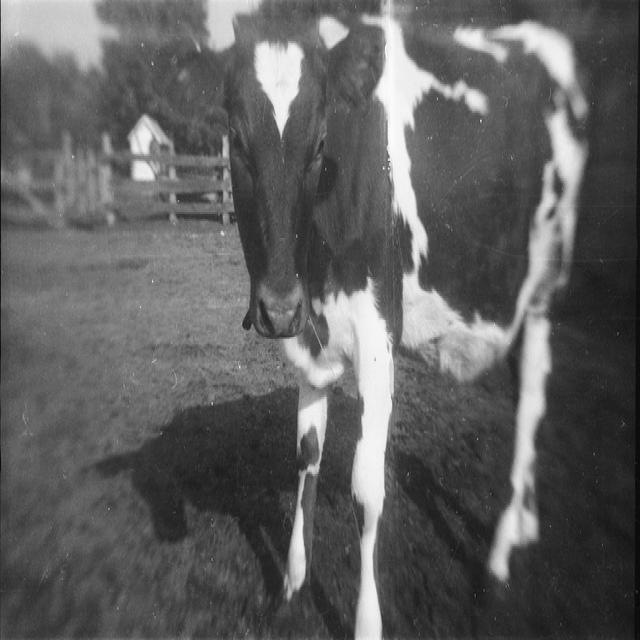cow: (154, 5, 590, 638)
